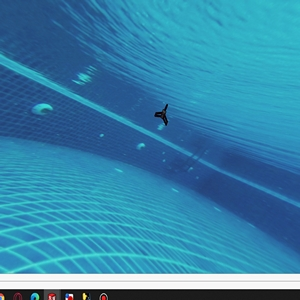submarine: (156, 106, 174, 128)
